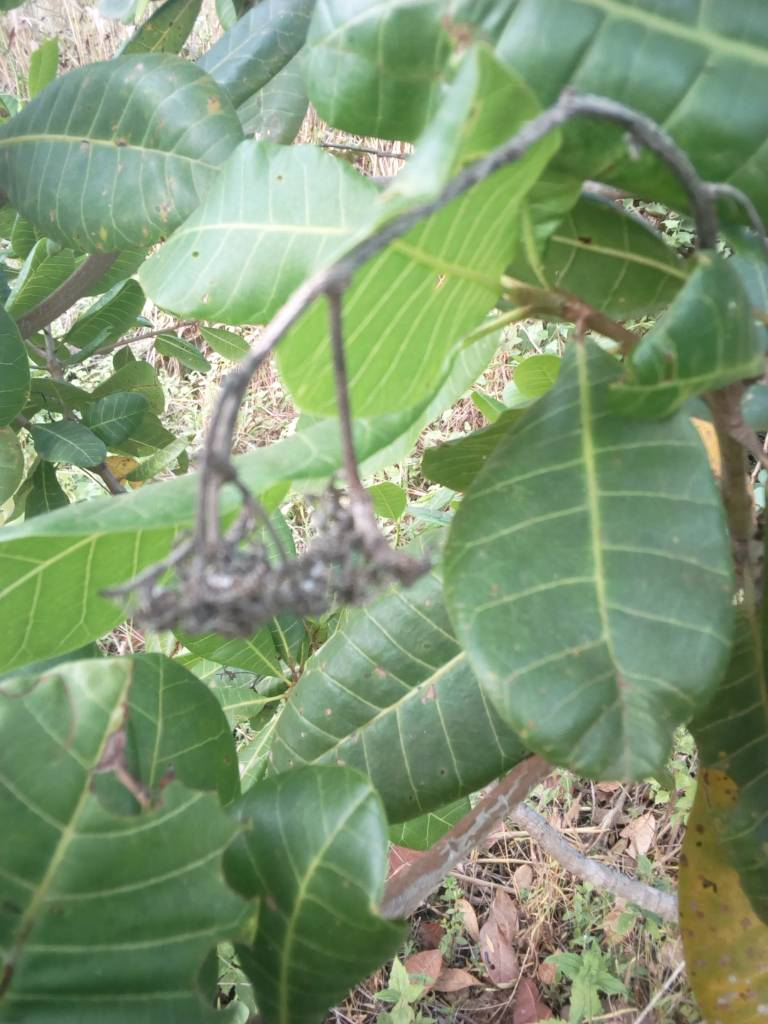Dessèchement des bourgeons: (105, 427, 435, 636)
